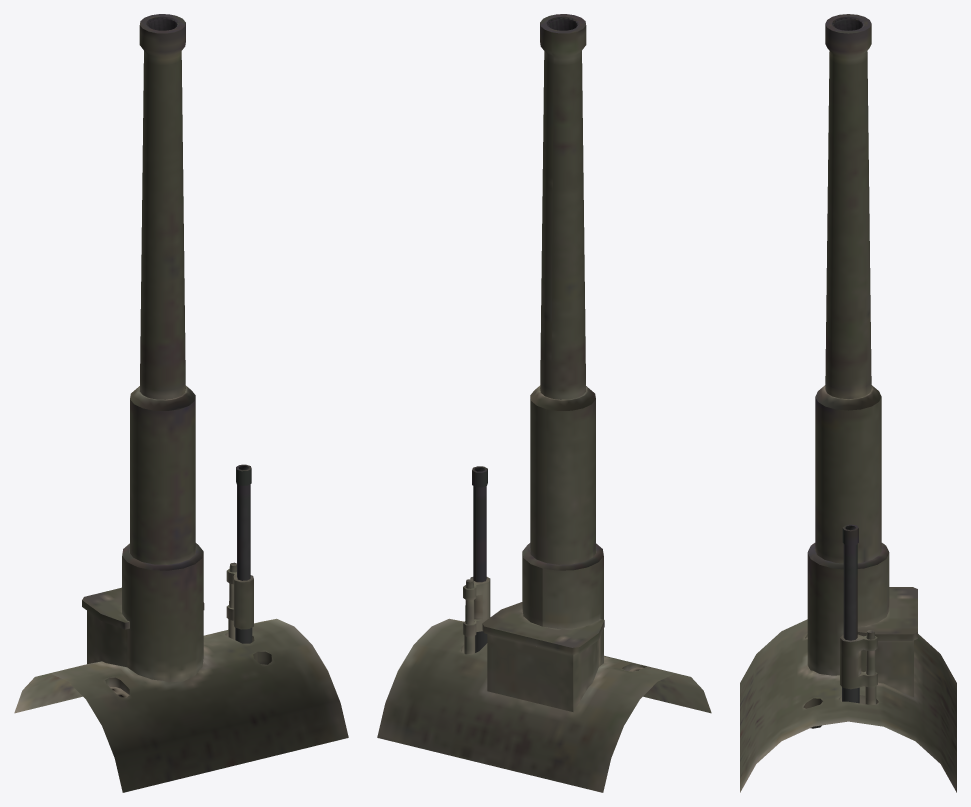
File: Gun_09.glb
3 renders of one model, left to right at view 1: azimuth 30°, elevation 25°; view 2: azimuth 150°, elevation 25°; view 3: azimuth 270°, elevation 25°, orthographic.
Parts seen in each view (by area): view 1: set_0_group_0; view 2: set_0_group_0; view 3: set_0_group_0.
Boxes of the visible parts, x1,y1,x2,y2 form: set_0_group_0: [14, 14, 348, 792]; set_0_group_0: [377, 14, 711, 792]; set_0_group_0: [740, 14, 956, 792].
Size of the model in its own units: 0.401 by 1.2 by 0.3338.
Materials: 1 (1 with a texture image).
